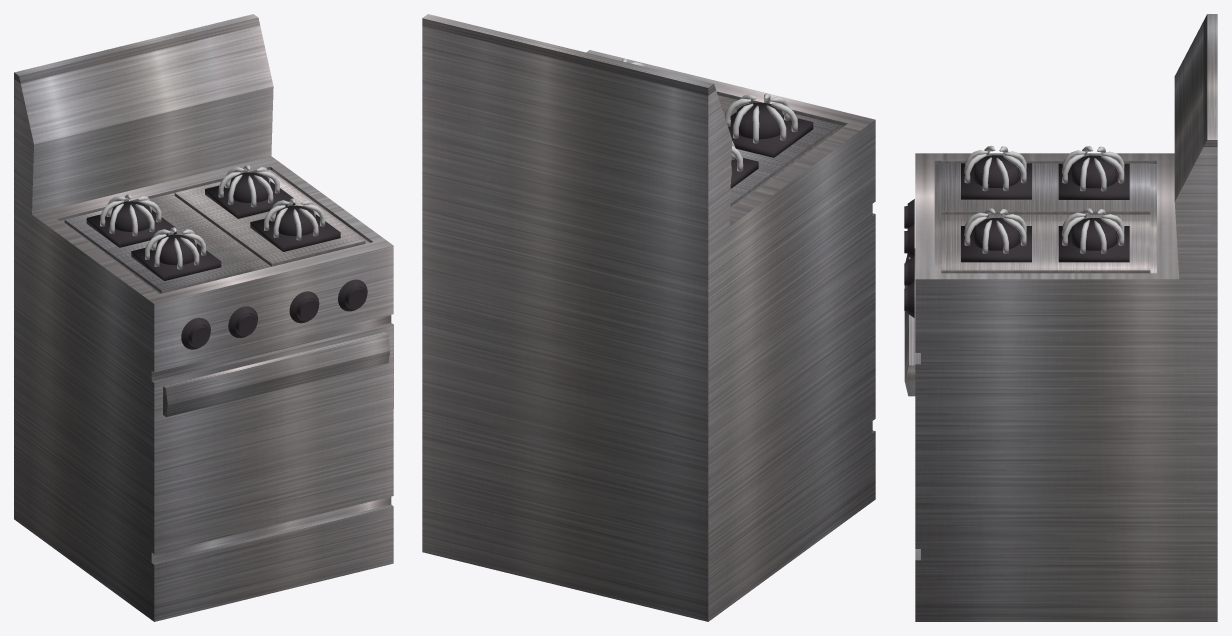
The model's file is estuf.obj.
The picture shows the model from 3 angles, left to right: view 1: azimuth 30°, elevation 25°; view 2: azimuth 150°, elevation 25°; view 3: azimuth 270°, elevation 25°; orthographic projection. The views are drawn at different scales.
Visible parts, largest first — view 1: Cube_Cube.001, Cylinder.022, Cylinder.031, Cylinder.004, Cylinder.013, Cylinder.003, Cylinder.002, Cylinder, Cylinder.001; view 2: Cube_Cube.001, Cylinder.031; view 3: Cube_Cube.001, Cylinder.013, Cylinder.004, Cylinder.022, Cylinder.031.
Boxes of the visible parts, x1,y1,x2,y2 form: Cube_Cube.001: (14,14,393,621); Cylinder.022: (250,205,340,251); Cylinder.031: (131,234,221,280); Cylinder.004: (86,201,176,247); Cylinder.013: (205,172,295,218); Cylinder.003: (338,279,367,311); Cylinder.002: (289,291,319,323); Cylinder: (181,317,210,349); Cylinder.001: (228,306,257,337); Cube_Cube.001: (422,14,875,621); Cylinder.031: (728,102,813,157); Cube_Cube.001: (904,14,1217,621); Cylinder.013: (1058,218,1129,262); Cylinder.004: (1058,155,1129,199); Cylinder.022: (961,218,1031,262); Cylinder.031: (961,155,1031,199).
Bounding box in the file's own units: 10.63 × 18.95 × 11.17.
3 materials, 2 textured.
